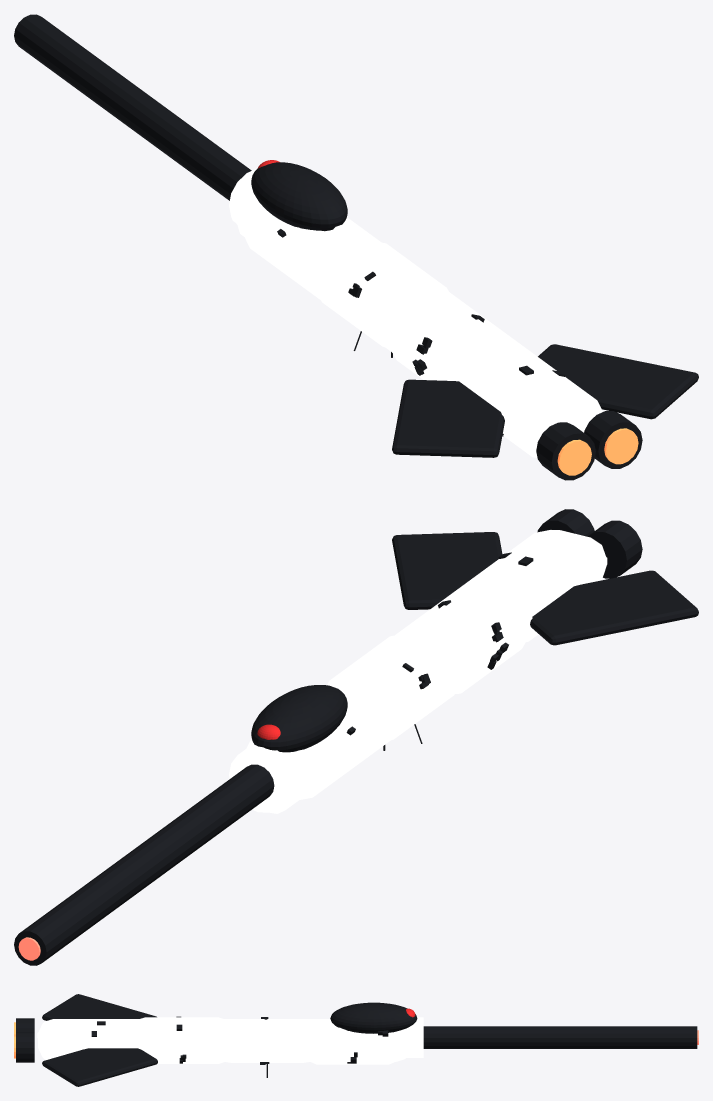
The model's file is tarkhan_small.glb.
3 renders of one model, top to bottom at view 1: azimuth 30°, elevation 25°; view 2: azimuth 150°, elevation 25°; view 3: azimuth 270°, elevation 25°, orthographic. The views are drawn at different scales.
Visible parts, largest first — view 1: tarkhan_small; view 2: tarkhan_small; view 3: tarkhan_small.
Part boxes in pixels (<box>): tarkhan_small: <box>14,14,698,480</box>; tarkhan_small: <box>14,509,698,965</box>; tarkhan_small: <box>14,994,698,1086</box>.
Bounding box in the file's own units: 3.1 × 1.14 × 10.
